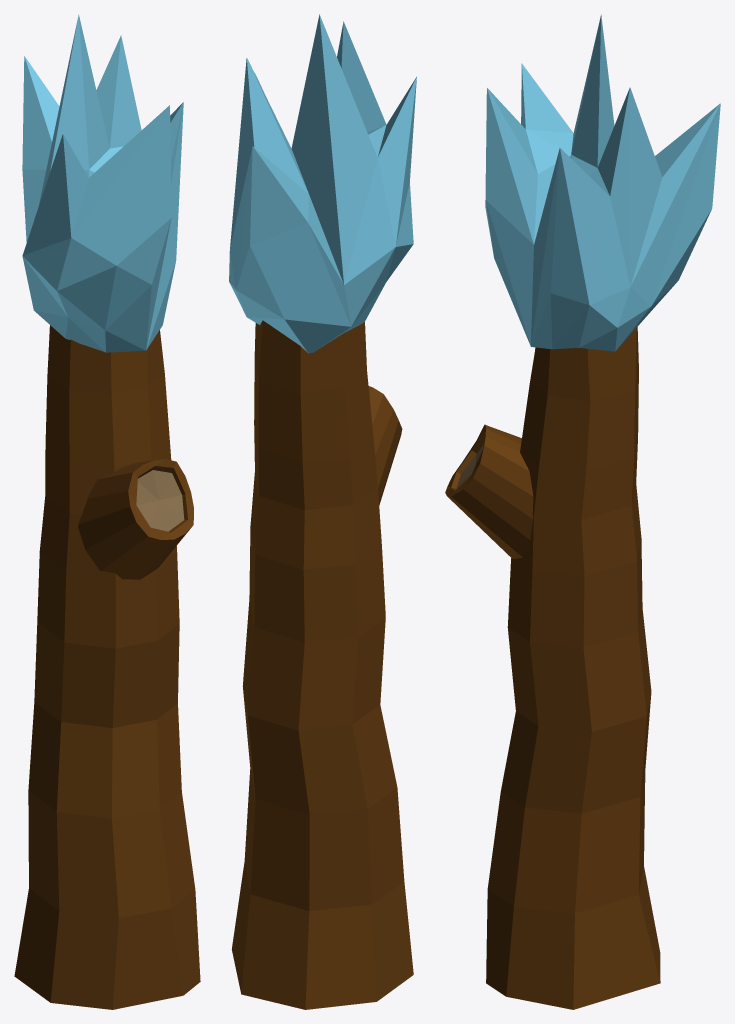
Rendered from SM_RespawnTorch.fbx.
The picture shows the model from 3 angles, left to right: view 1: azimuth 30°, elevation 25°; view 2: azimuth 150°, elevation 25°; view 3: azimuth 270°, elevation 25°; orthographic projection. The views are drawn at different scales.
Parts seen in each view (by area): view 1: Cylinder.001; view 2: Cylinder.001; view 3: Cylinder.001.
Part boxes in pixels (x1,y1,x2,y2): Cylinder.001: [14, 14, 200, 1009]; Cylinder.001: [229, 14, 416, 1009]; Cylinder.001: [445, 14, 720, 1009].
Bounding box in the file's own units: 21.79 × 120 × 31.56.
